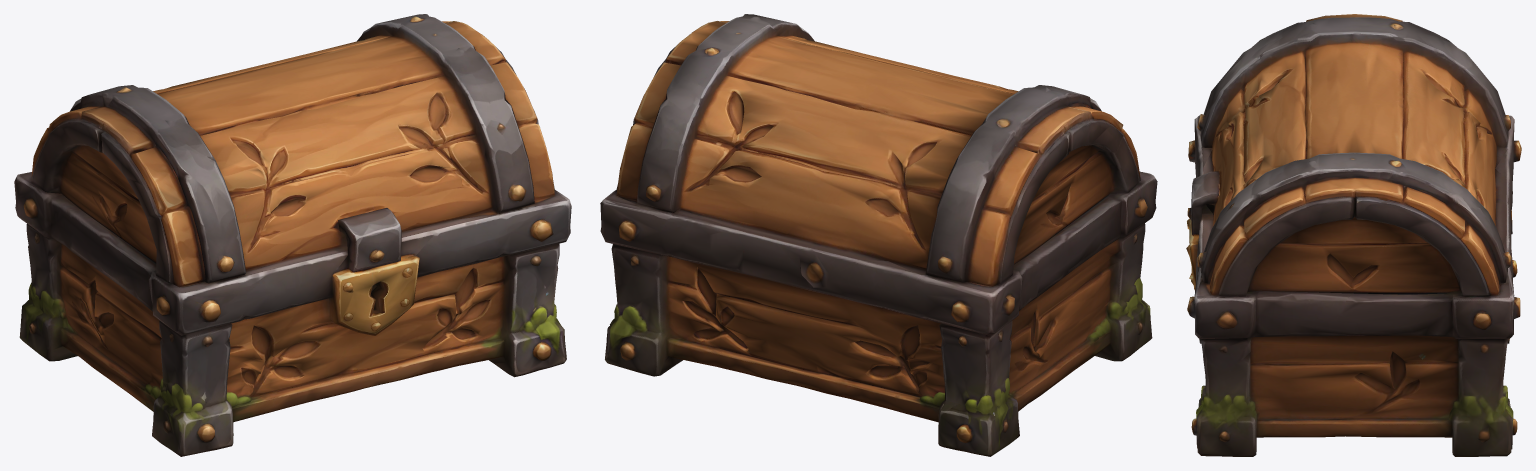
File: chest.treasure.glb
3 views of the same model, side by side, from view 1: azimuth 30°, elevation 25°; view 2: azimuth 150°, elevation 25°; view 3: azimuth 270°, elevation 25° (orthographic). The views are drawn at different scales.
Parts seen in each view (by area): view 1: Chest_Lid, Chest_Body, Chest_Lock; view 2: Chest_Lid, Chest_Body; view 3: Chest_Lid, Chest_Body, Chest_Lock.
Part boxes in pixels (left/top/right/bottom): Chest_Lid: left=31, top=14, right=563, bottom=287; Chest_Body: left=14, top=172, right=571, bottom=456; Chest_Lock: left=329, top=207, right=433, bottom=335; Chest_Lid: left=616, top=14, right=1140, bottom=286; Chest_Body: left=600, top=171, right=1157, bottom=456; Chest_Lid: left=1196, top=14, right=1511, bottom=297; Chest_Body: left=1187, top=115, right=1521, bottom=456; Chest_Lock: left=1186, top=171, right=1219, bottom=290.
Bounding box in the file's own units: 0.9989 × 0.6801 × 0.7524.
Materials: 3 (3 with a texture image).
